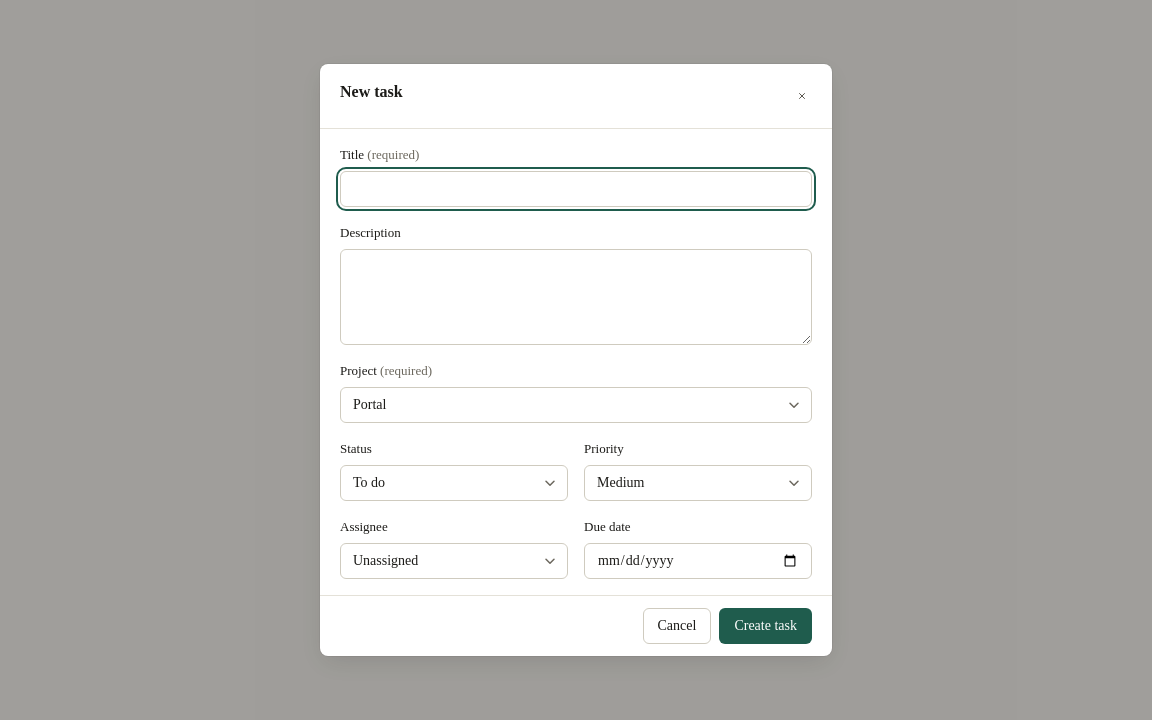
Test case: TaskFormDialog › shows server field errors next to the field
This screenshot has width=1152, height=720.
Type "Duplicate" into the field labelled "Title (required)" at (576,189), box [340, 171, 812, 207]
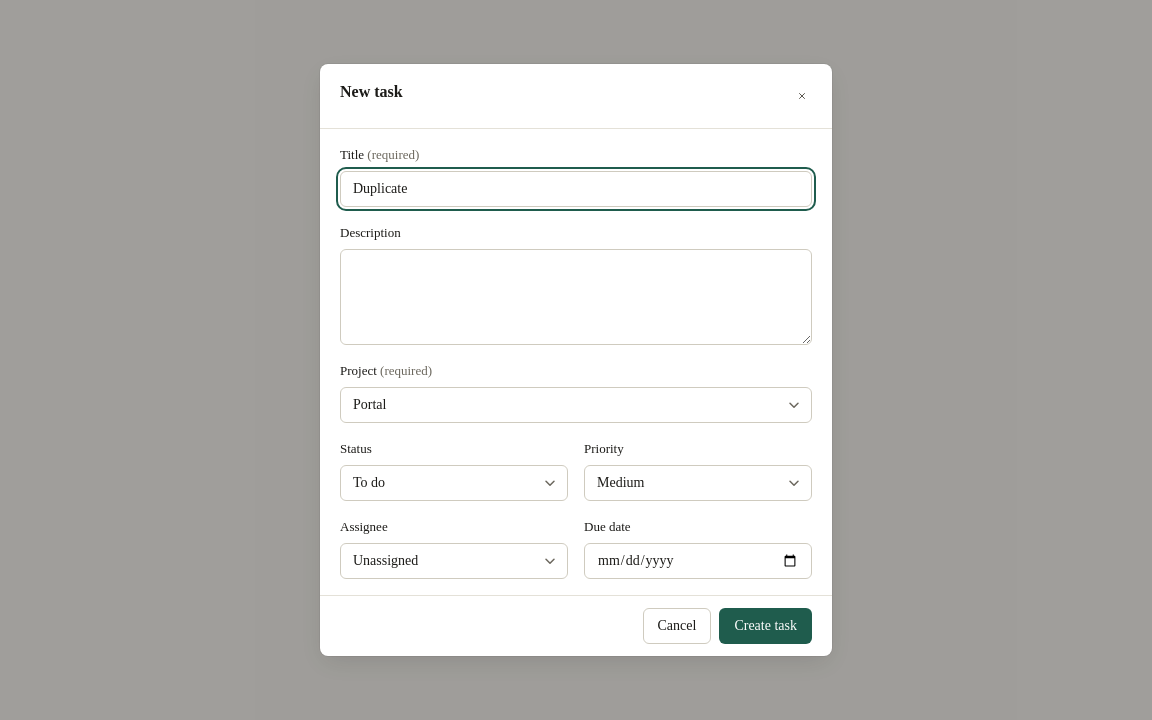
Click the button "Create task" at (766,626), box [719, 608, 812, 644]
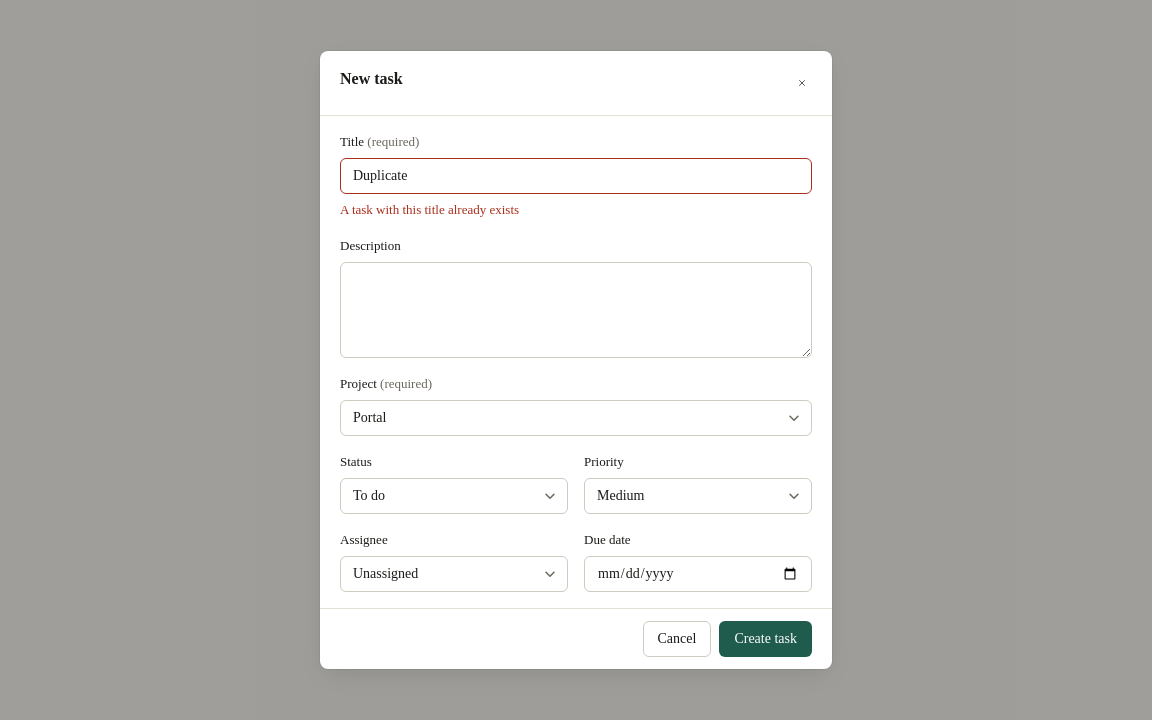
Expected: the button "Create task" is enabled, [719, 621, 812, 657]
Result: the text "A task with this title already exists" is shown at [340, 202, 519, 217]
